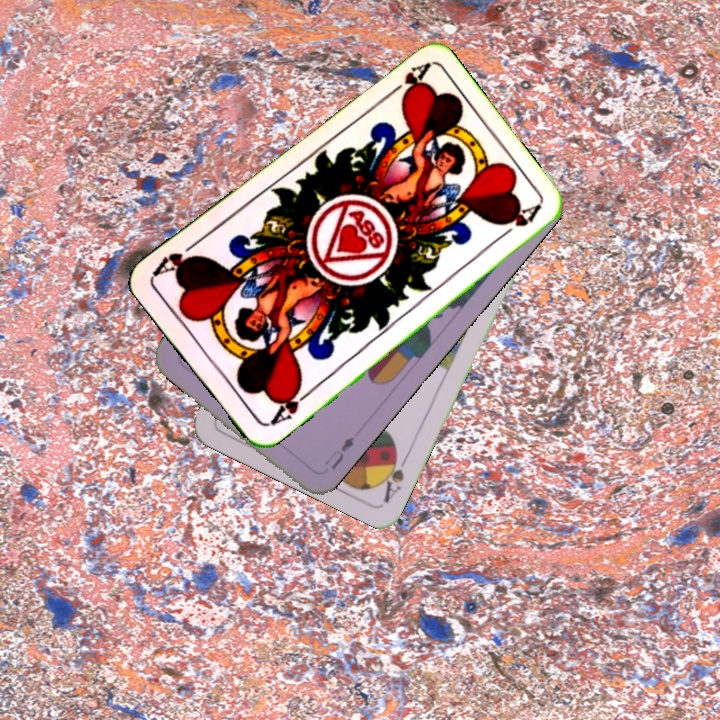EU: (320, 432, 358, 472)
HA: (264, 380, 314, 429), (380, 59, 432, 104)
SA: (376, 446, 412, 505)
